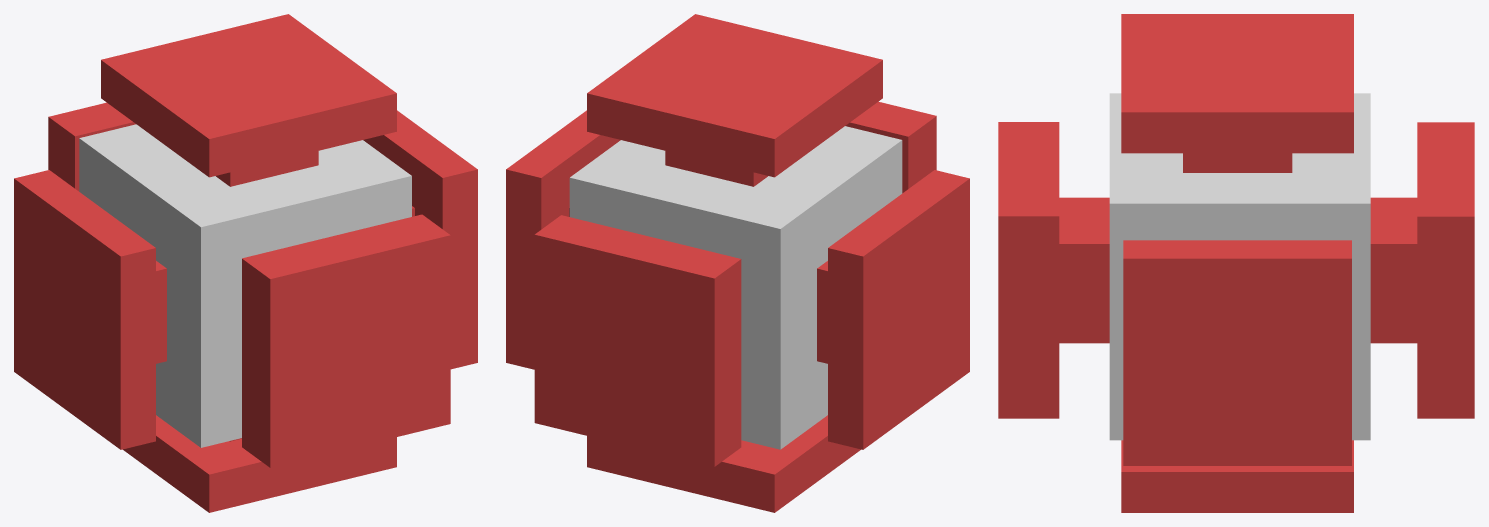
Rendered from Turret.fbx.
3 renders of one model, left to right at view 1: azimuth 30°, elevation 25°; view 2: azimuth 150°, elevation 25°; view 3: azimuth 270°, elevation 25°, orthographic. The views are drawn at different scales.
Parts seen in each view (by area): view 1: pCube1; view 2: pCube1; view 3: pCube1.
Boxes of the visible parts, x1,y1,x2,y2 form: pCube1: [14, 14, 477, 512]; pCube1: [506, 14, 969, 512]; pCube1: [998, 14, 1474, 512].
Bounding box in the file's own units: 6.77 × 6.78 × 7.29.
